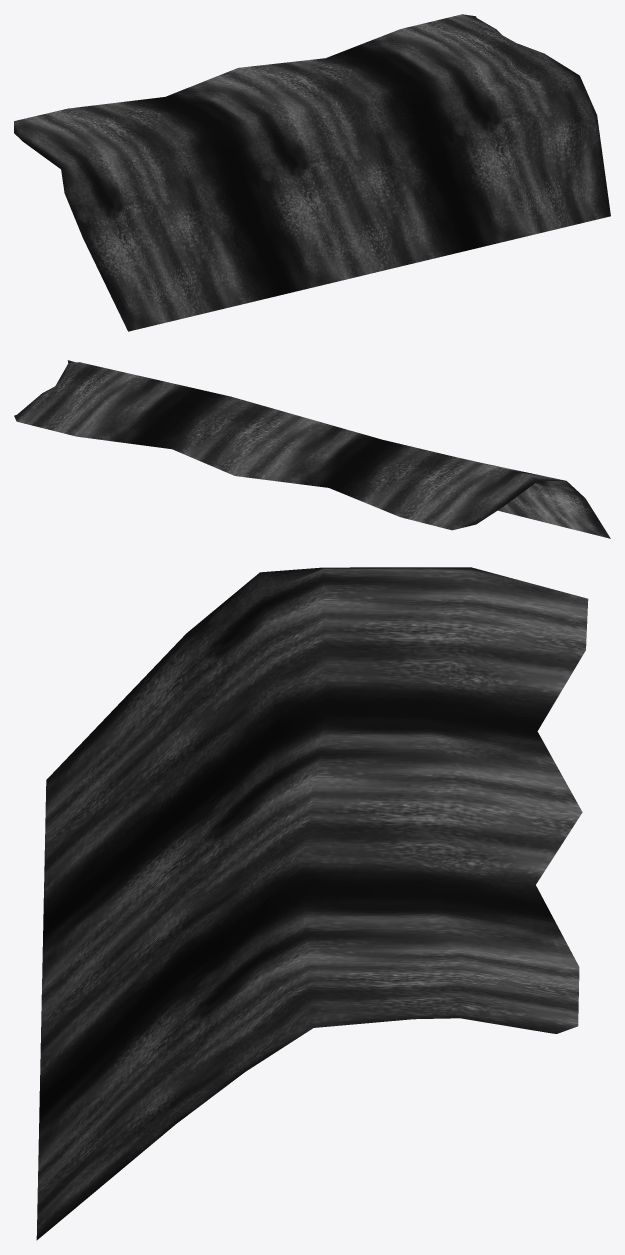
Rendered from easf08.obj.
3 renders of one model, top to bottom at view 1: azimuth 30°, elevation 25°; view 2: azimuth 150°, elevation 25°; view 3: azimuth 270°, elevation 25°, orthographic. The views are drawn at different scales.
Parts seen in each view (by area): view 1: easf08; view 2: easf08; view 3: easf08.
Boxes of the visible parts, box(x1,y1,x2,y2) form: easf08: box(14, 14, 610, 331); easf08: box(14, 360, 610, 538); easf08: box(36, 567, 588, 1240).
Size of the model in its own units: 895 by 191 by 425.
